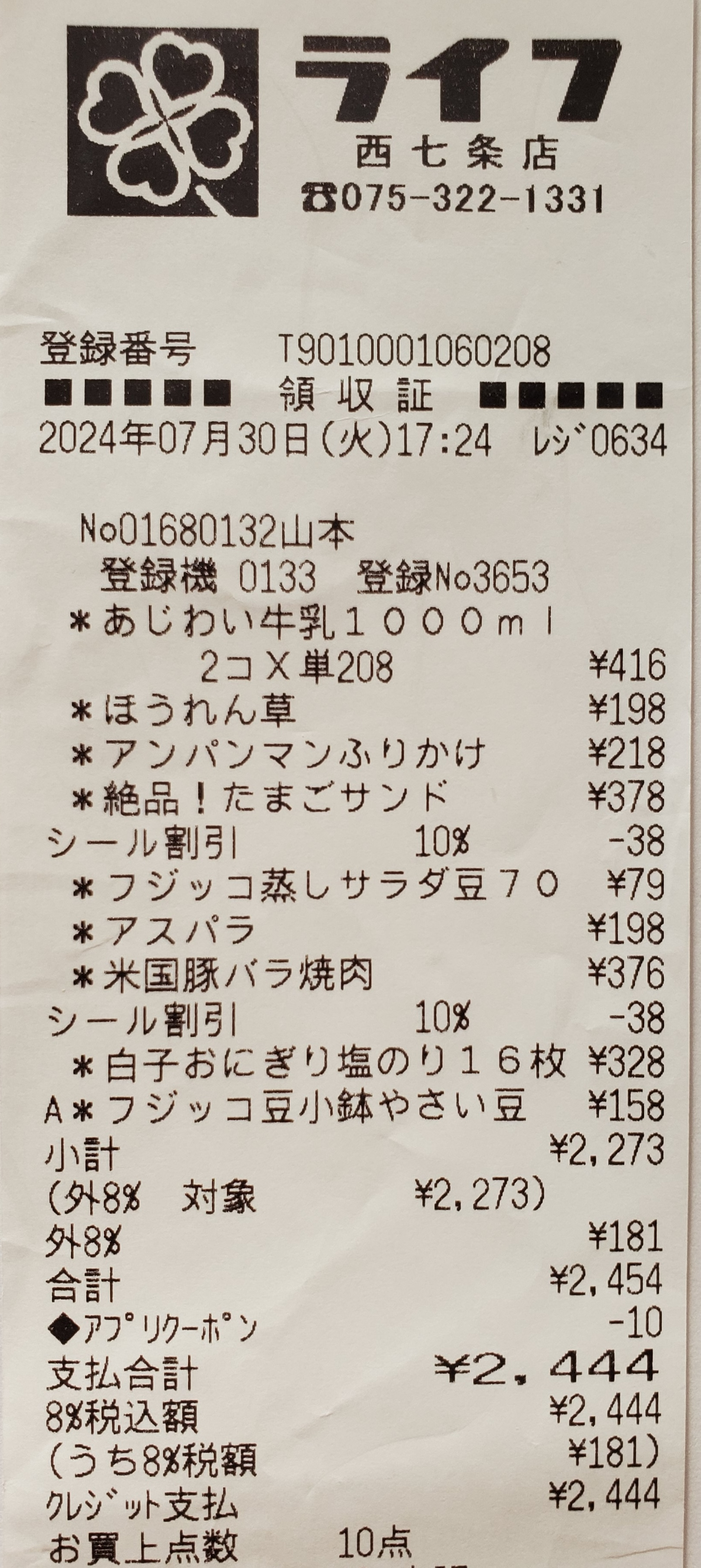Date: (33, 411, 320, 459)
Shopname: (269, 15, 663, 136)
Telnum: (338, 174, 629, 226)
Totalpay: (44, 1264, 679, 1305)
